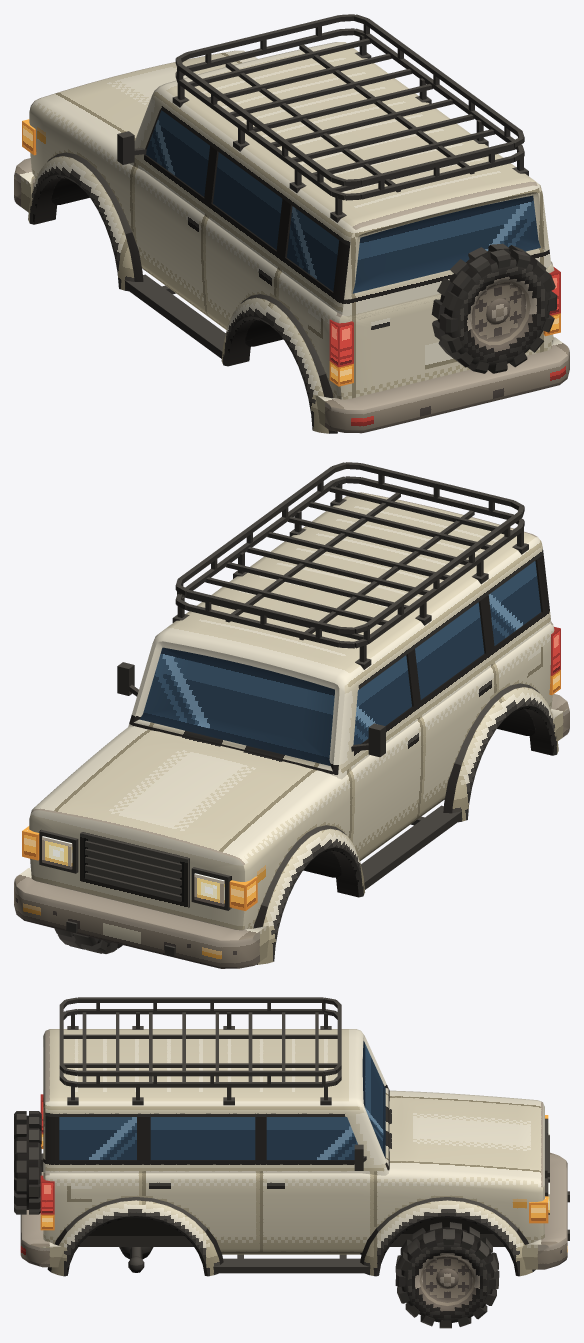
3 views of the same model, one above another, from view 1: azimuth 30°, elevation 25°; view 2: azimuth 150°, elevation 25°; view 3: azimuth 270°, elevation 25° (orthographic). The views are drawn at different scales.
Visible parts, largest first — view 1: Body; view 2: Body, Wheel; view 3: Body, Wheel, AxleRear.
Boxes of the visible parts, x1=… form: Body: x1=14, y1=14, x2=569, y2=433; Body: x1=14, y1=462, x2=569, y2=968; Wheel: x1=54, y1=928, x2=122, y2=953; Body: x1=14, y1=997, x2=569, y2=1276; Wheel: x1=395, y1=1222, x2=499, y2=1328; AxleRear: x1=119, y1=1247, x2=153, y2=1272.
Size of the model in its own units: 2.14 by 2.42 by 4.88.
Materials: 5 (5 with a texture image).
